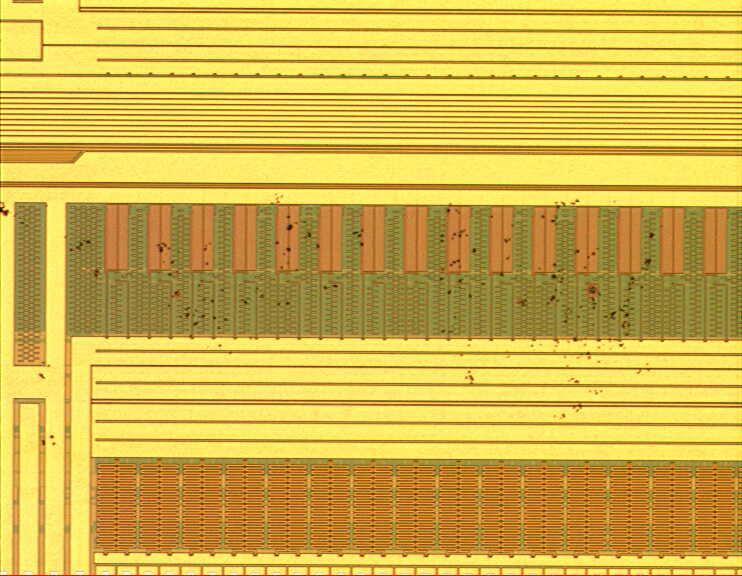PO CONTAMINATION: (1, 191, 668, 450)
